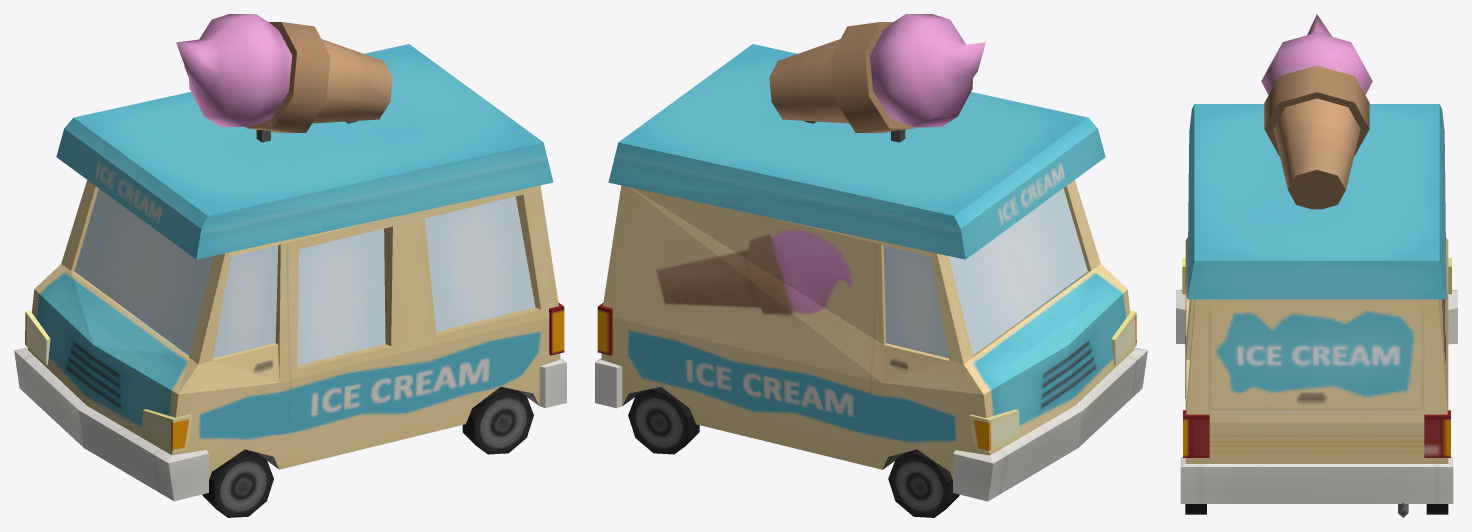
The model's file is icecream van.FBX.
3 renders of one model, left to right at view 1: azimuth 30°, elevation 25°; view 2: azimuth 150°, elevation 25°; view 3: azimuth 270°, elevation 25°, orthographic. The views are drawn at different scales.
Parts seen in each view (by area): view 1: IceCreamVan002; view 2: IceCreamVan002; view 3: IceCreamVan002.
Boxes of the visible parts, x1=… form: IceCreamVan002: x1=14, y1=14, x2=566, y2=517; IceCreamVan002: x1=595, y1=14, x2=1147, y2=517; IceCreamVan002: x1=1176, y1=14, x2=1457, y2=517.
Size of the model in its own units: 226 by 217 by 141.
